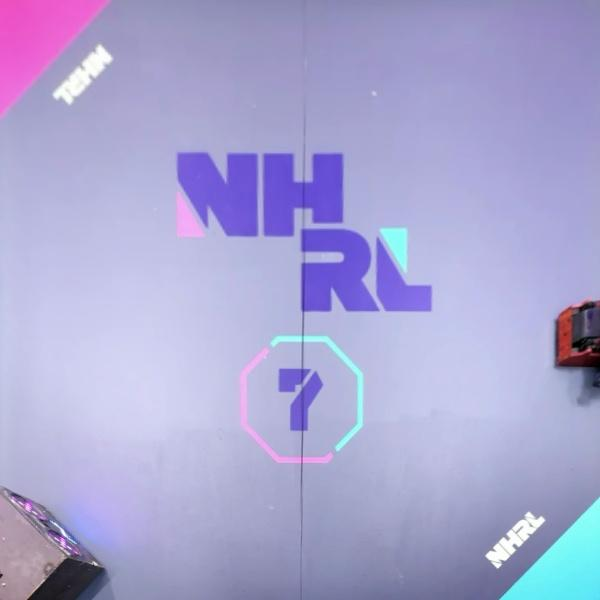housebot: (0, 484, 108, 600)
robot: (554, 298, 600, 367)
